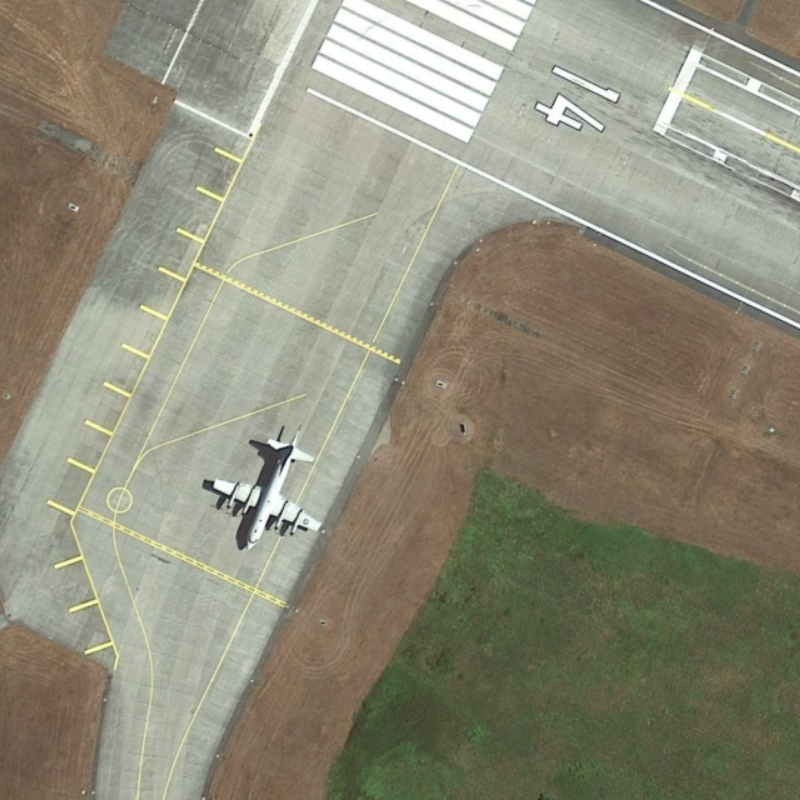A9: (197, 417, 329, 553)
